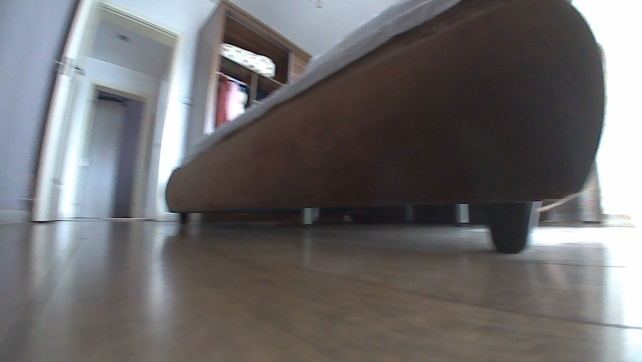sofa1: (161, 0, 616, 254)
